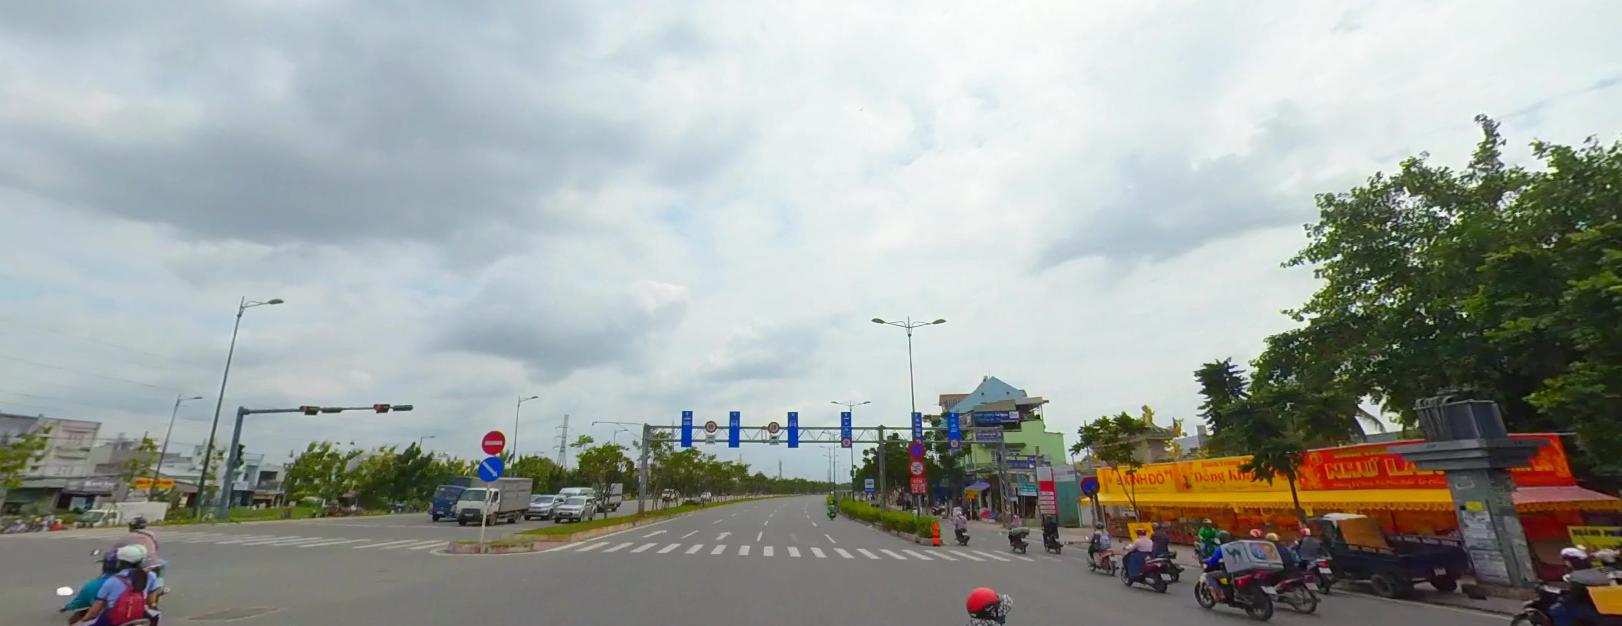Cam con lai: (907, 457, 924, 475)
Cam dung va do: (1080, 475, 1099, 493), (907, 440, 924, 456)
Cam nguoc chieu: (480, 428, 504, 454)
Gioi han toc do: (767, 419, 779, 431), (704, 419, 715, 431), (841, 436, 850, 445), (949, 437, 958, 445)
Hieu lenh: (477, 456, 502, 480)
Nguy hiem: (964, 487, 975, 497)
